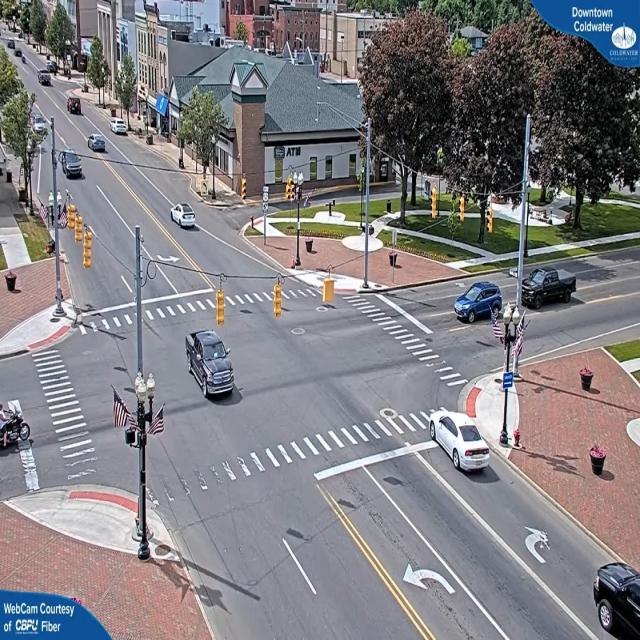car: (429, 412, 493, 476), (187, 332, 238, 402), (594, 564, 640, 640), (522, 268, 576, 310), (454, 283, 501, 324), (172, 205, 198, 230), (62, 151, 83, 180), (88, 134, 107, 152), (112, 120, 128, 136)
motorbike: (0, 404, 30, 450)
